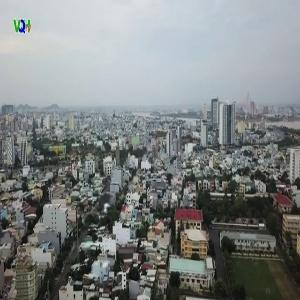drone: (71, 165, 142, 236)
